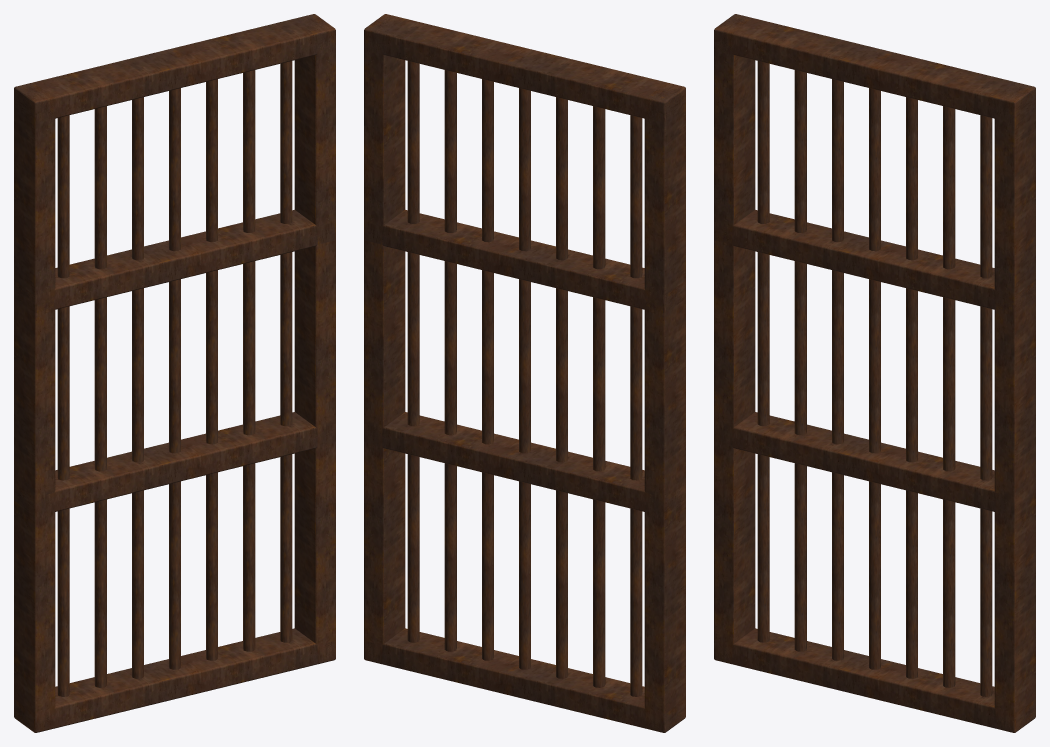
The model's file is door_iron_grate.glb.
3 renders of one model, left to right at view 1: azimuth 30°, elevation 25°; view 2: azimuth 150°, elevation 25°; view 3: azimuth 330°, elevation 25°, orthographic.
Visible parts, largest first — view 1: prop; view 2: prop; view 3: prop.
Boxes of the visible parts, left/top/right/bottom form: prop: left=14, top=14, right=335, bottom=732; prop: left=364, top=14, right=685, bottom=732; prop: left=714, top=14, right=1035, bottom=732.
Size of the model in its own units: 1 by 2 by 0.125.
Materials: 1 (1 with a texture image).
